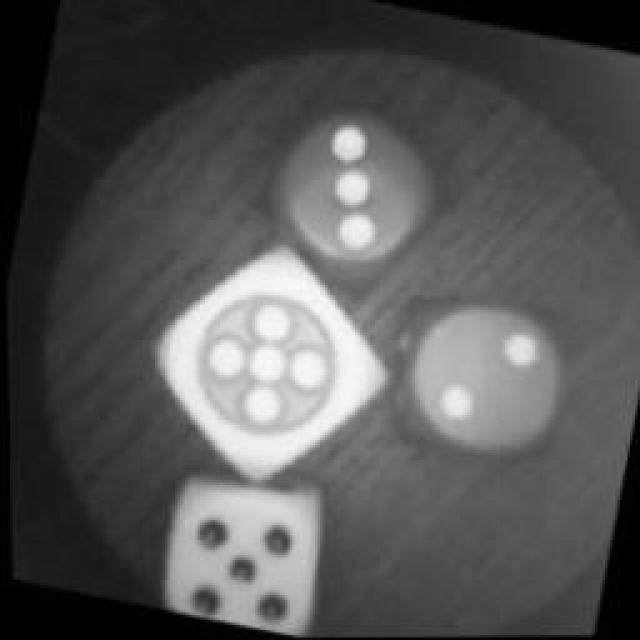dice_2: (373, 276, 585, 484)
dice_3: (225, 78, 470, 308)
dice_5: (124, 224, 404, 501), (145, 465, 340, 640)
